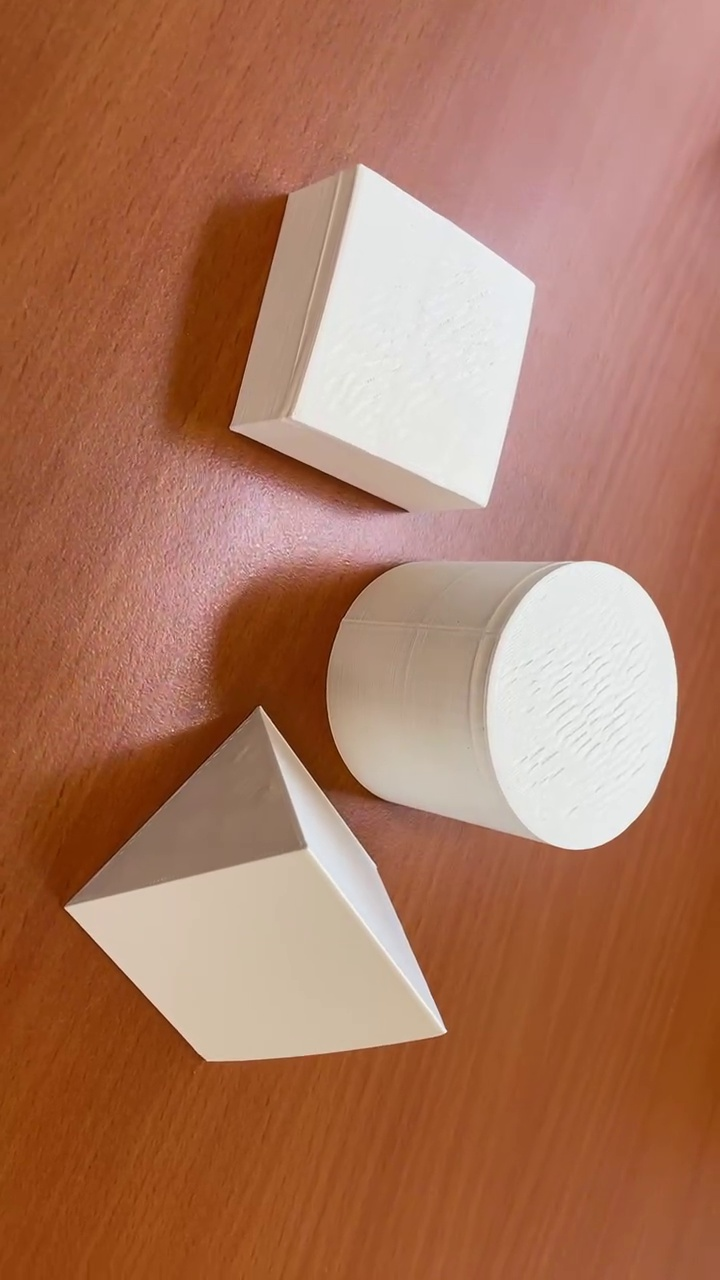Cube_short: (223, 163, 537, 519)
Cylinder: (316, 545, 678, 857)
Triangle: (64, 702, 446, 1060)
